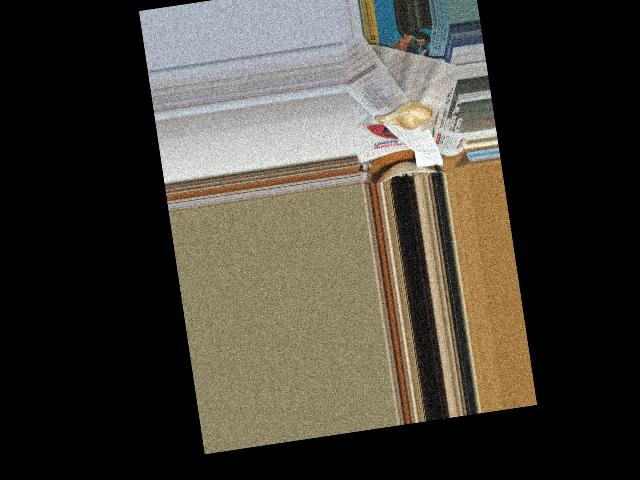onion: (377, 97, 433, 136)
